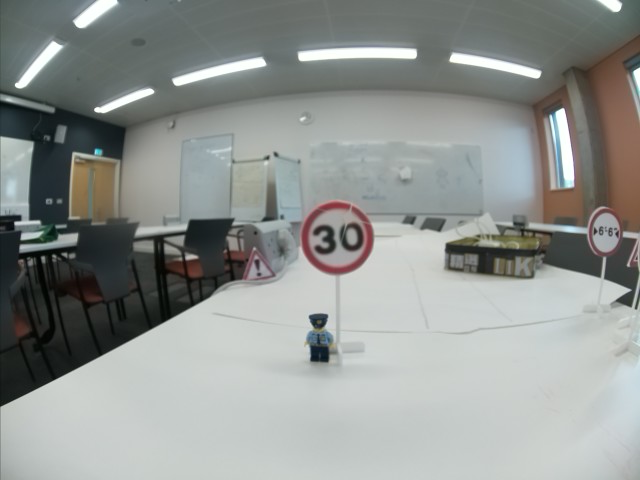30mph: (301, 196, 371, 276)
6ft6: (588, 205, 622, 258)
Lego Man: (303, 311, 336, 364)
Warning: (242, 248, 281, 281)
